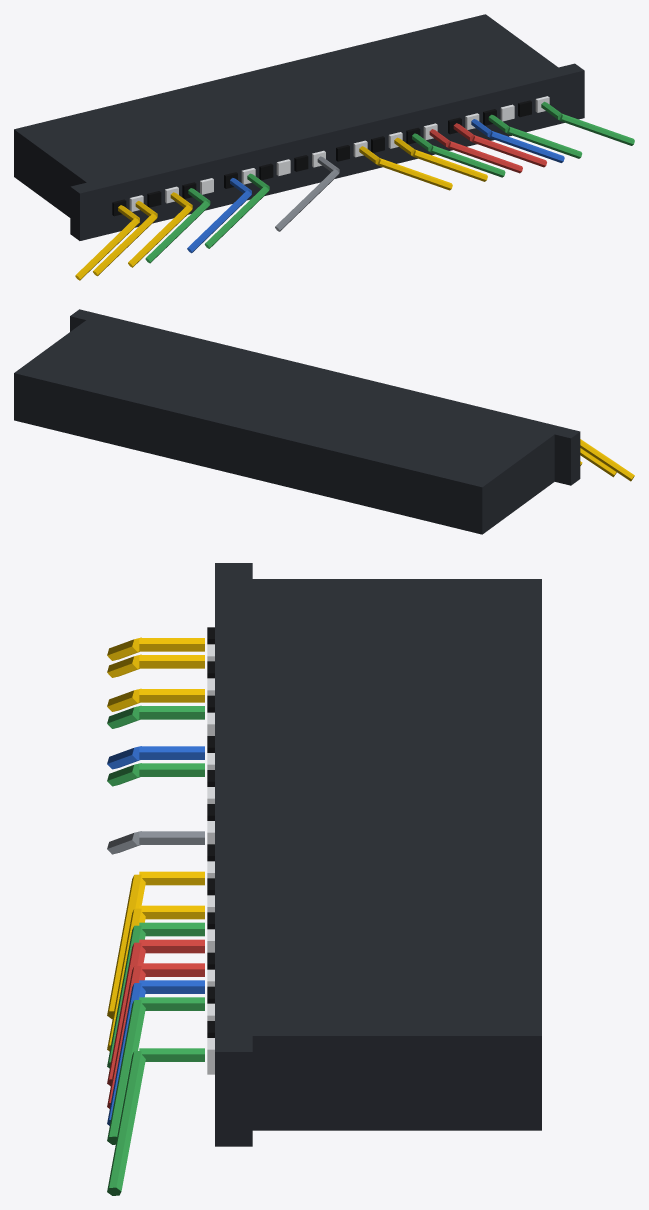
File: 12_Patch_Panel_24P.fbx
3 views of the same model, one above another, from view 1: azimuth 30°, elevation 25°; view 2: azimuth 150°, elevation 25°; view 3: azimuth 270°, elevation 25° (orthographic). The views are drawn at different scales.
Parts seen in each view (by area): view 1: 12_Patch_Panel_24P; view 2: 12_Patch_Panel_24P; view 3: 12_Patch_Panel_24P.
Boxes of the visible parts, x1=… form: 12_Patch_Panel_24P: x1=14, y1=14, x2=634, y2=280; 12_Patch_Panel_24P: x1=14, y1=309, x2=634, y2=534; 12_Patch_Panel_24P: x1=107, y1=563, x2=541, y2=1195.
Bounding box in the file's own units: 0.5089 × 0.054 × 0.1729.
